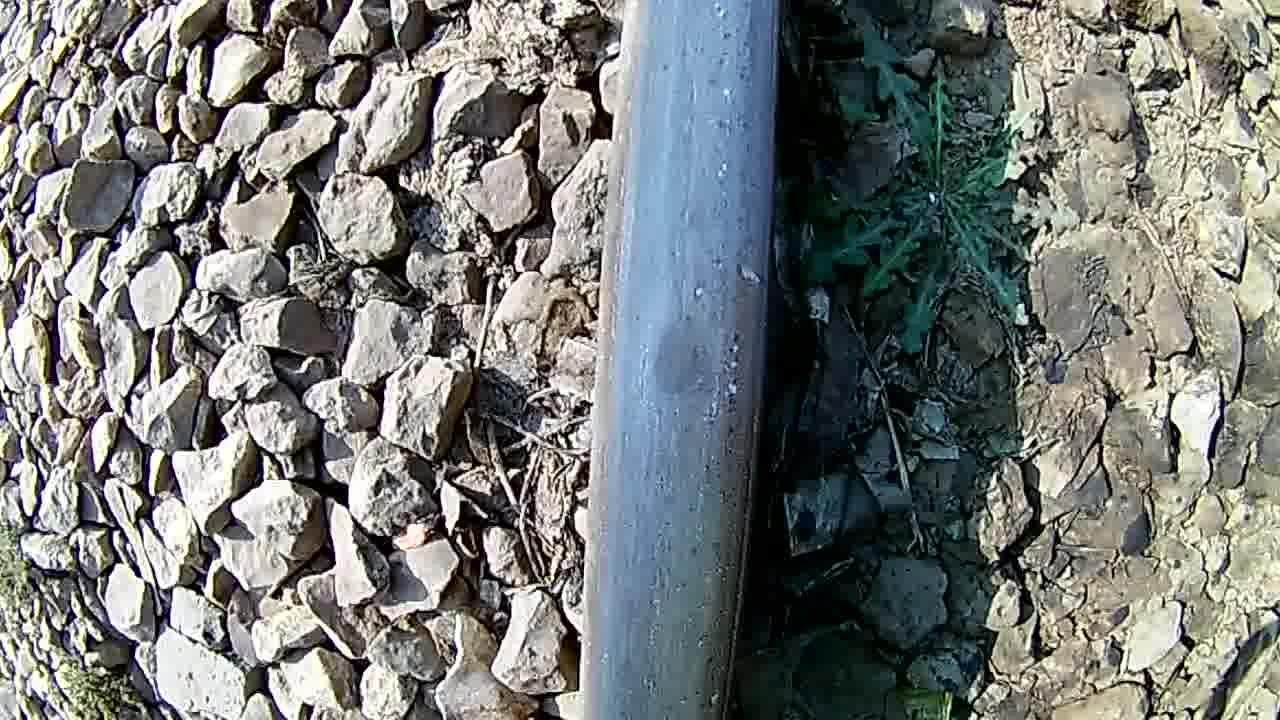bolt_missing: (607, 287, 770, 443)
